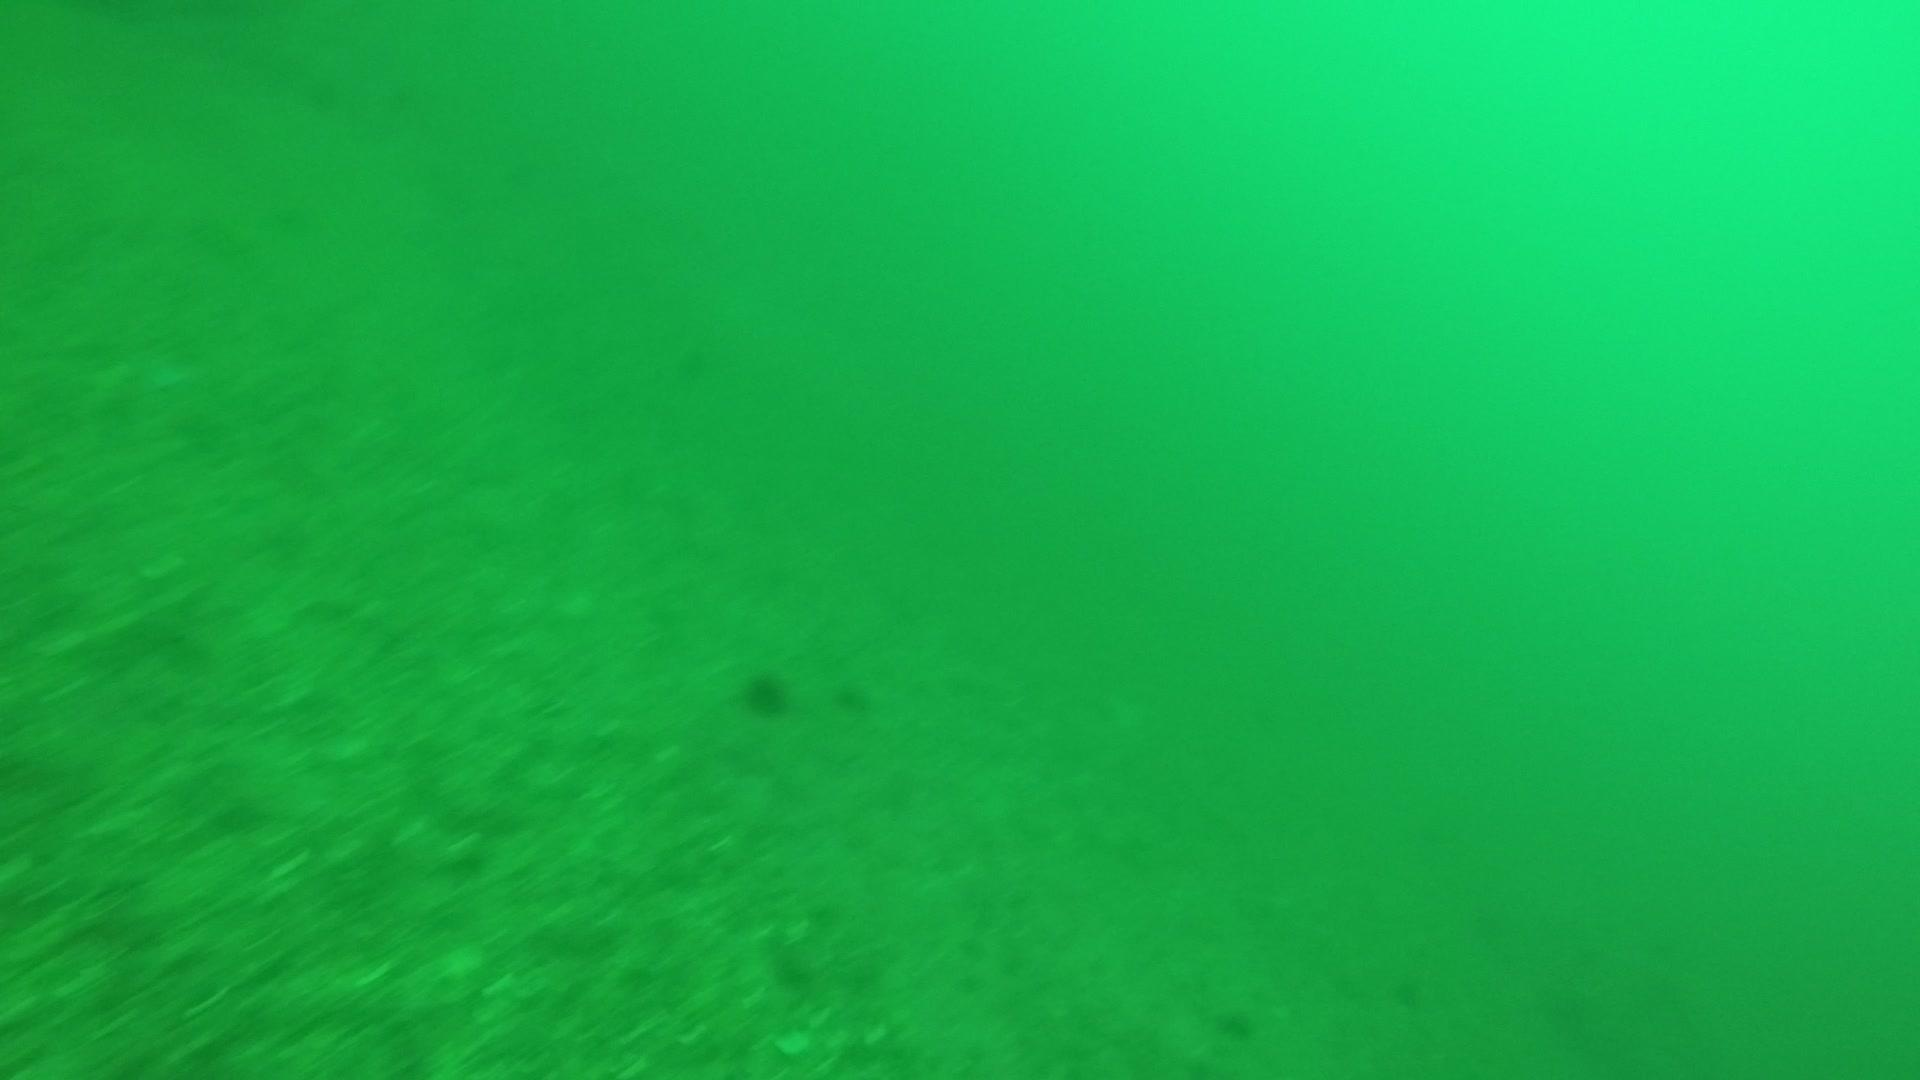echinus: (735, 663, 795, 720), (831, 675, 876, 717)
